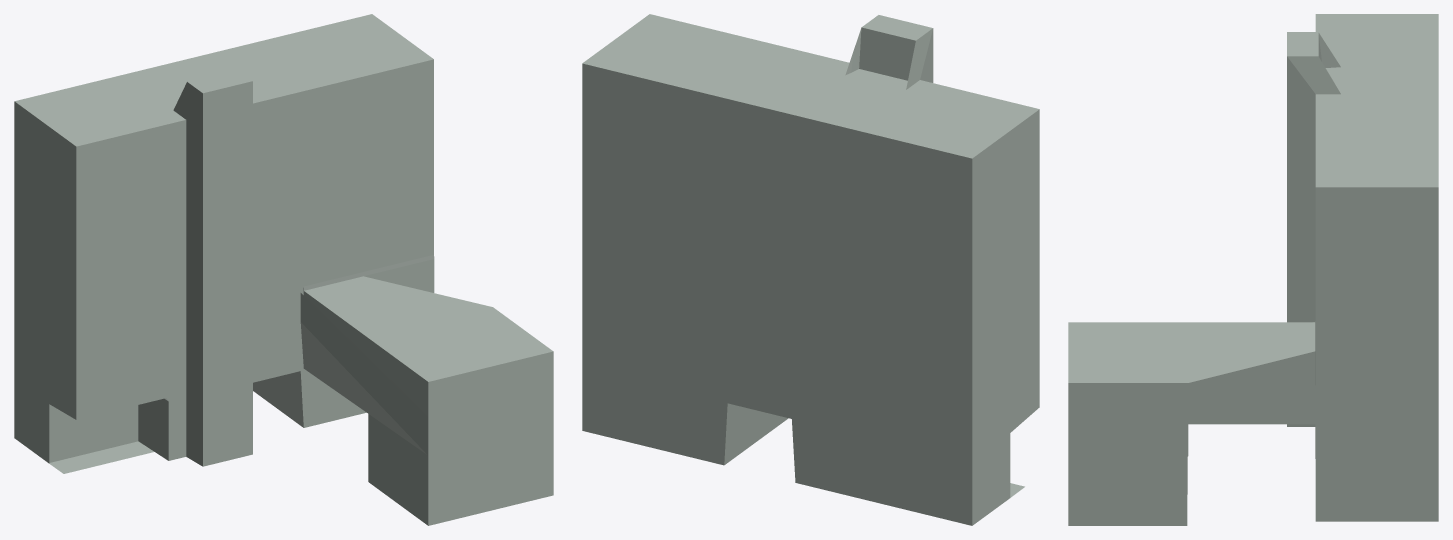
Rendered from THEIobj.obj.
3 renders of one model, left to right at view 1: azimuth 30°, elevation 25°; view 2: azimuth 150°, elevation 25°; view 3: azimuth 270°, elevation 25°, orthographic. The views are drawn at different scales.
Visible parts, largest first — view 1: Cube; view 2: Cube; view 3: Cube.
Part boxes in pixels (x1,y1,x2,y2): Cube: (14,14,553,525); Cube: (582,14,1039,525); Cube: (1068,14,1438,525).
Bounding box in the file's own units: 2 × 2.03 × 1.81.
1 material, 1 textured.
